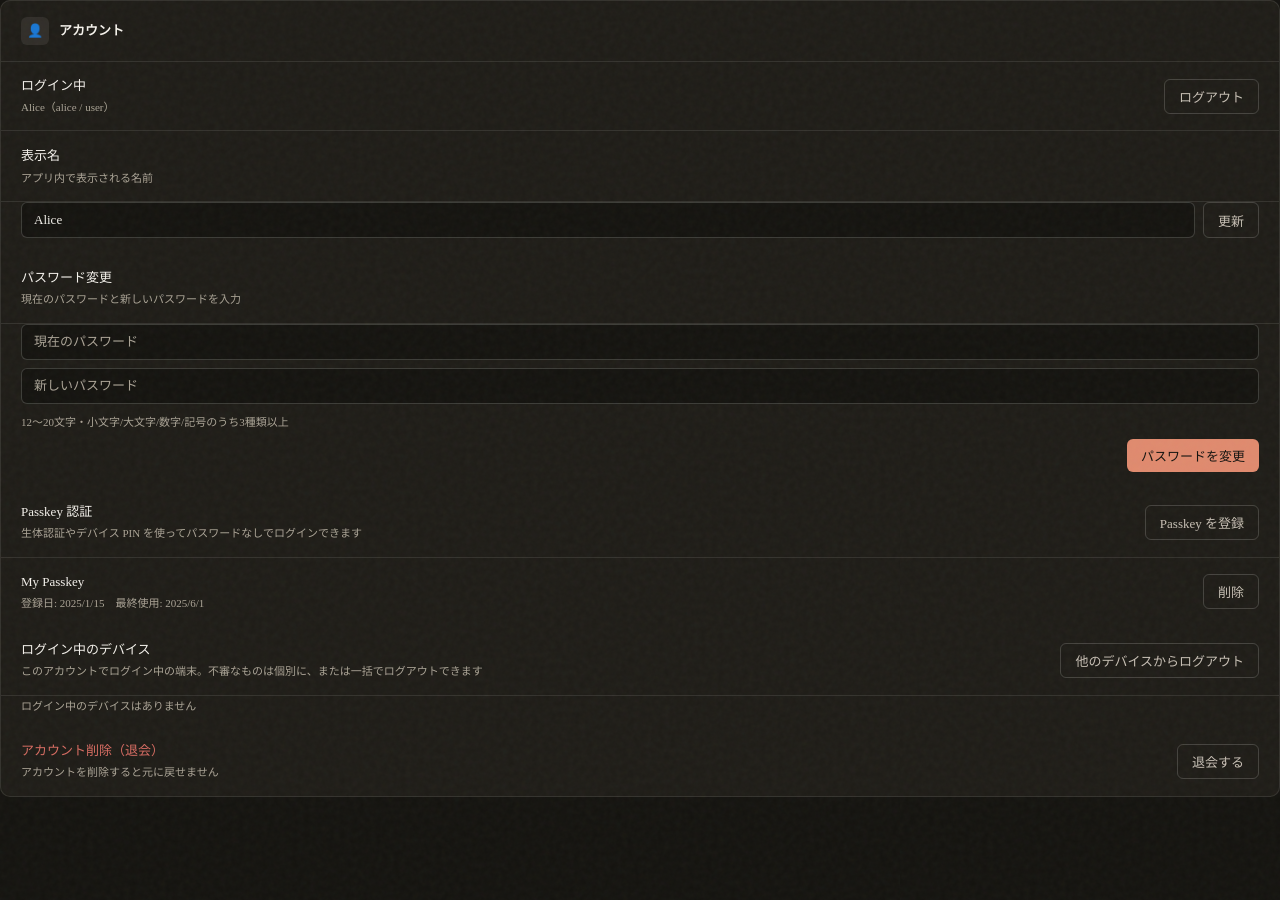
Test: AccountSection — Passkey 削除 › 削除後に一覧が再取得される
# 削除ボタンをクリック
What coordinates should you click on to do the following:
click the button "削除"
I would click on:
 (1231, 592)
Its box is [1203,574,1259,609].
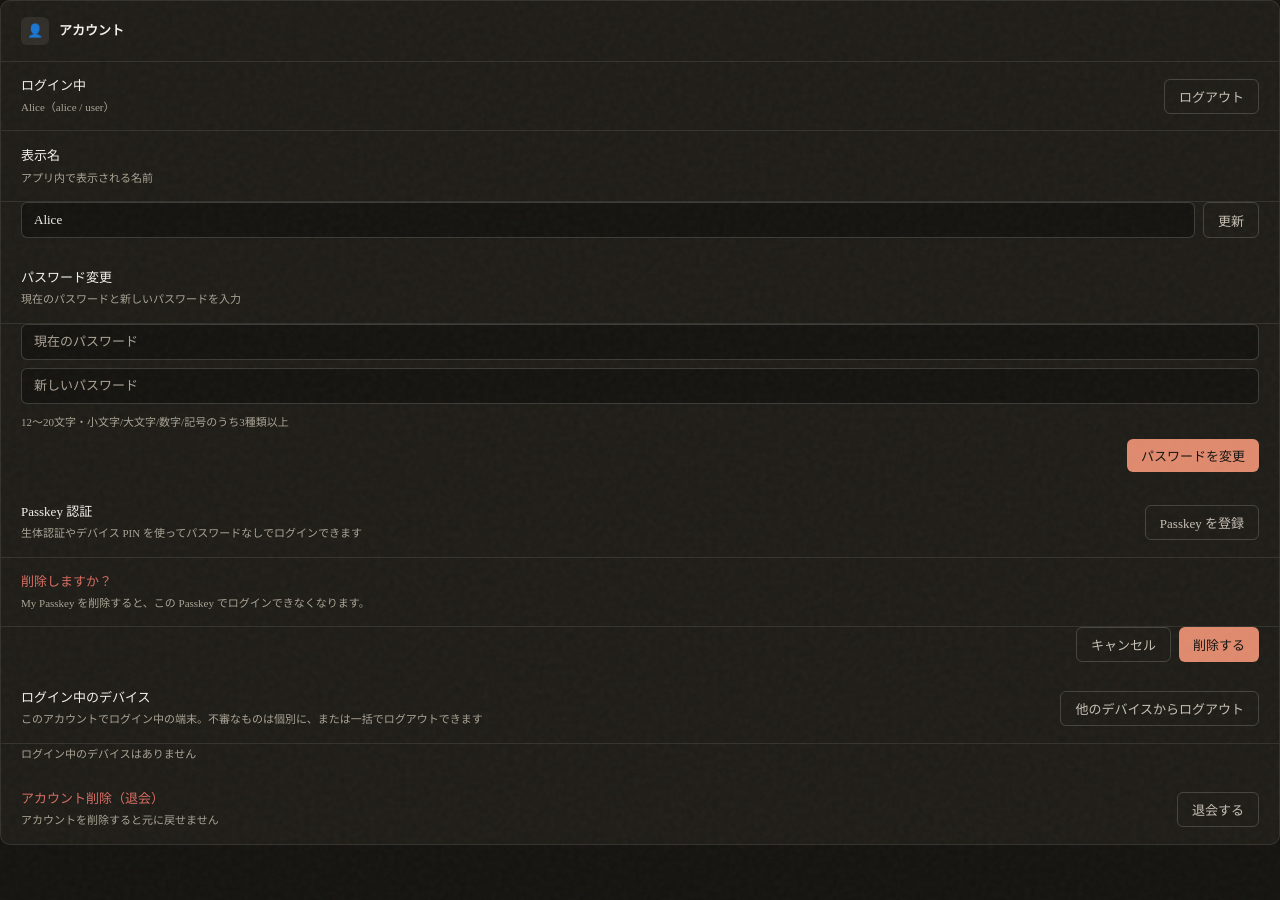
# 「削除する」をクリック（aria-label で検索）
What coordinates should you click on to do the following:
click the button with aria-label "My Passkey を削除"
I would click on:
 (1219, 645)
Its box is [1179,627,1259,662].
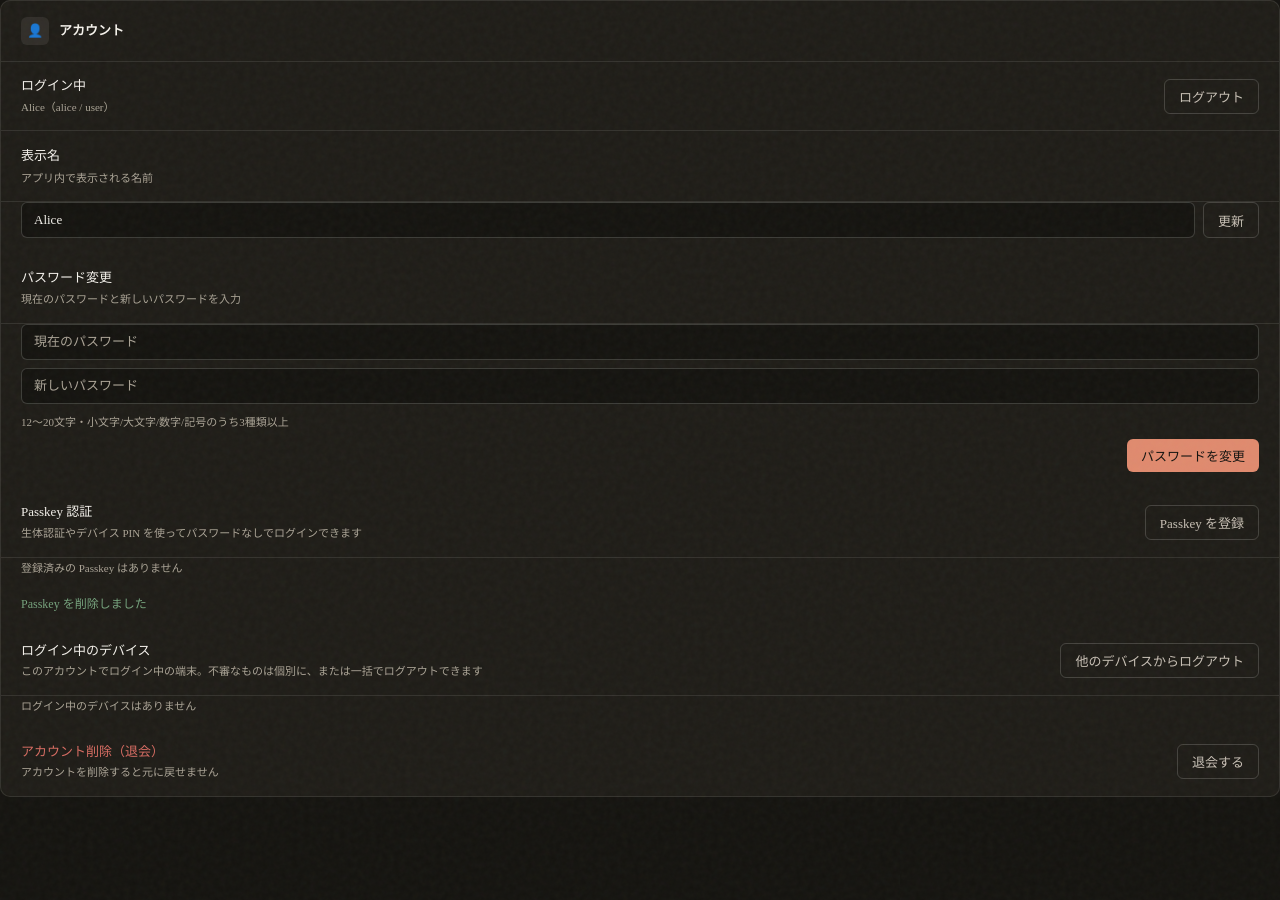
expect the text "登録済みの Passkey はありません" is shown: met, box [21,562,183,574]
